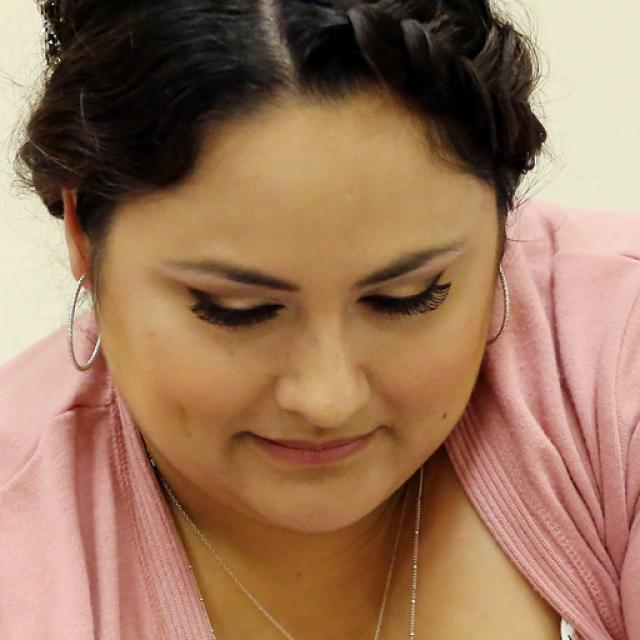sad: (95, 102, 491, 536)
